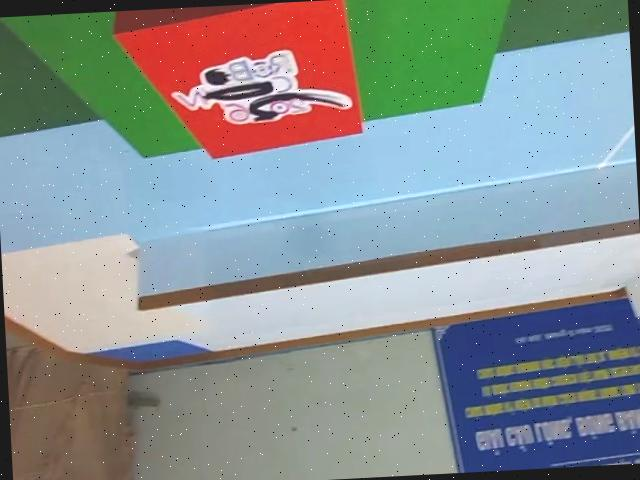R1: (107, 0, 363, 164)
